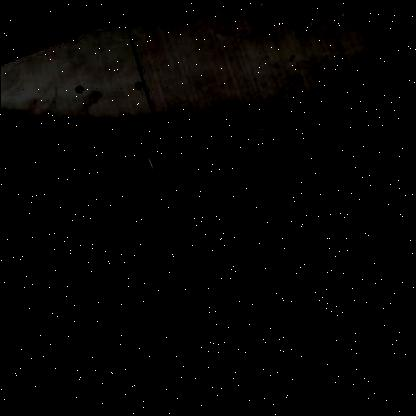Can: (129, 109, 297, 227)
